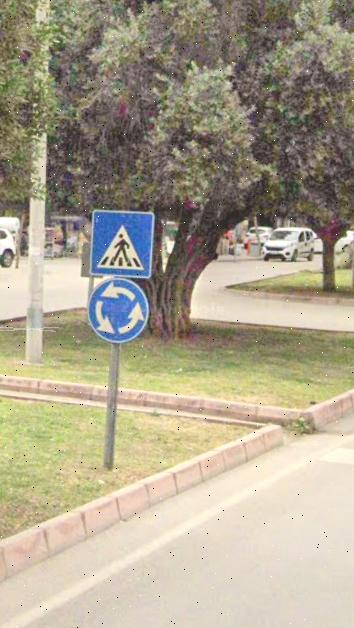crossroads: (84, 278, 154, 348)
